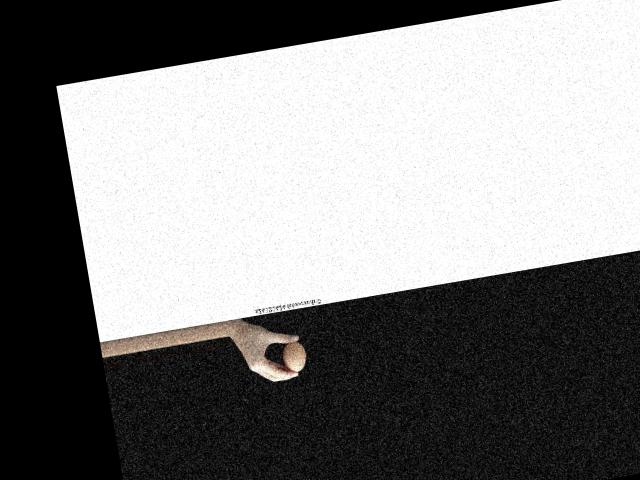egg: (281, 340, 308, 374)
